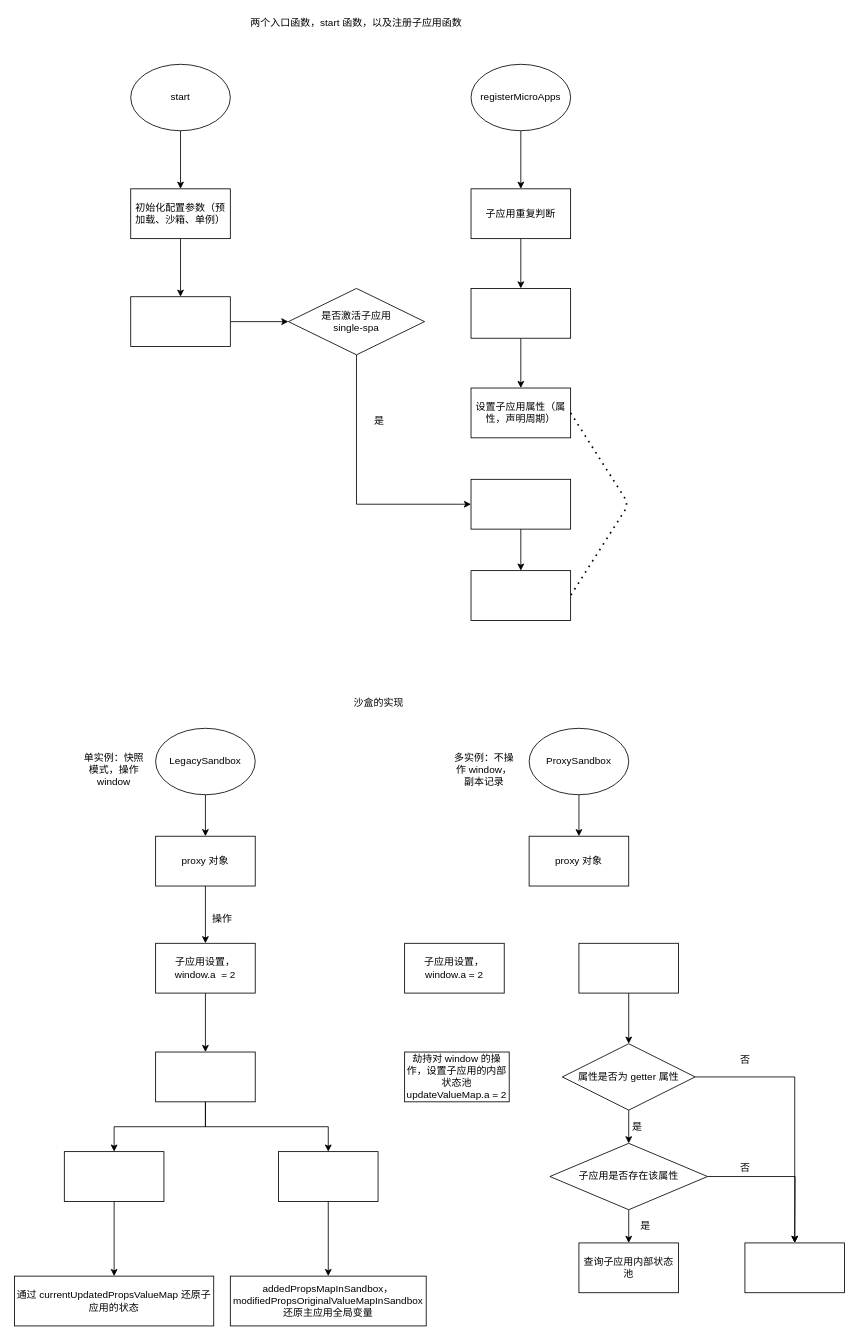
This 859x1340 diagram has some shape labels left out. The centre of each missing label's shape, as x and y in pixels:
"启动主应用" belongs at pixel 180 321.
"子应用卸载" belongs at pixel 328 1176.
"子应用激活" belongs at pixel 113 1176.
"子应用获取值 get window.a" belongs at pixel 628 967.
"快照记录，状态池存储" belongs at pixel 205 1076.
"执行子应用周期配置" belongs at pixel 520 595.
"执行子应用的 callback" belongs at pixel 520 503.
"查询 window 对象" belongs at pixel 794 1267.
"注册子应用" belongs at pixel 520 313.
